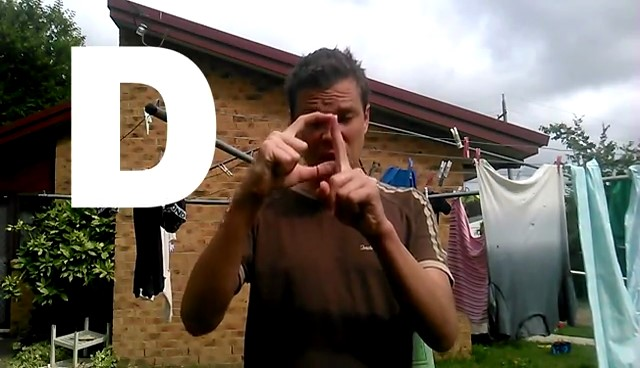D: (246, 105, 391, 235)
